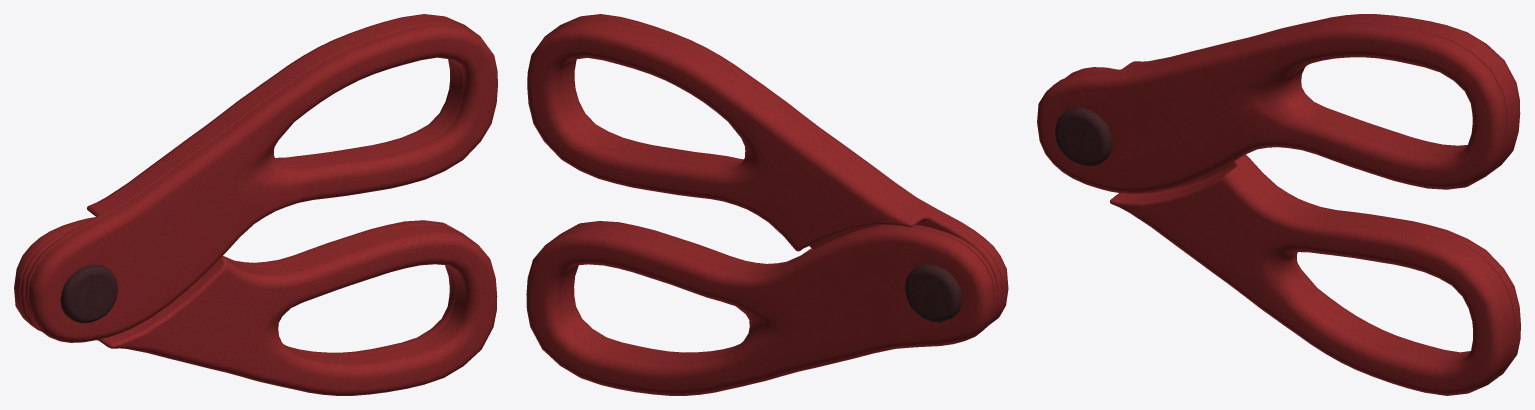
3 renders of one model, left to right at view 1: azimuth 30°, elevation 25°; view 2: azimuth 150°, elevation 25°; view 3: azimuth 330°, elevation 25°, orthographic.
Bounding box in the file's own units: 0.5344 × 0.3912 × 0.0721.
Materials: 1 (1 with a texture image).
